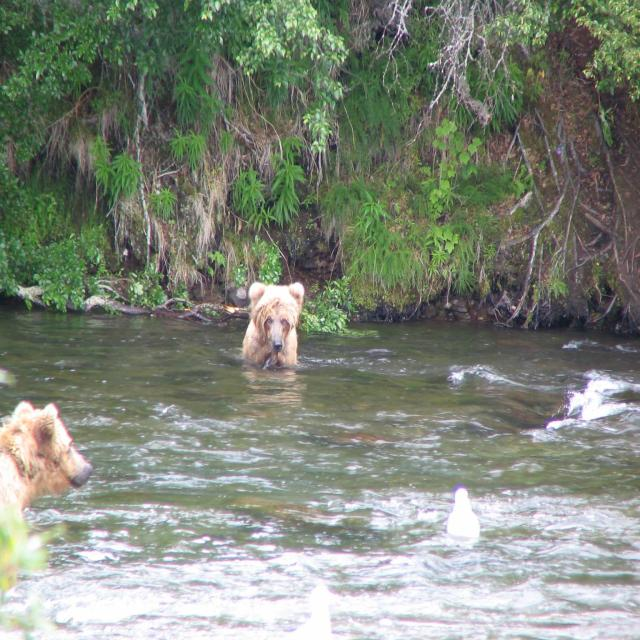bear face: (0, 397, 94, 504), (243, 275, 303, 375)
